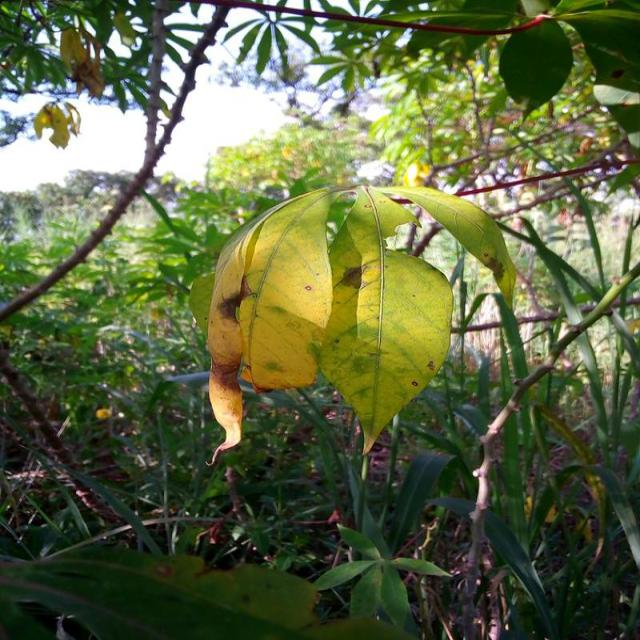cassava leaf: (190, 180, 456, 465), (317, 184, 453, 456), (370, 182, 517, 312)
